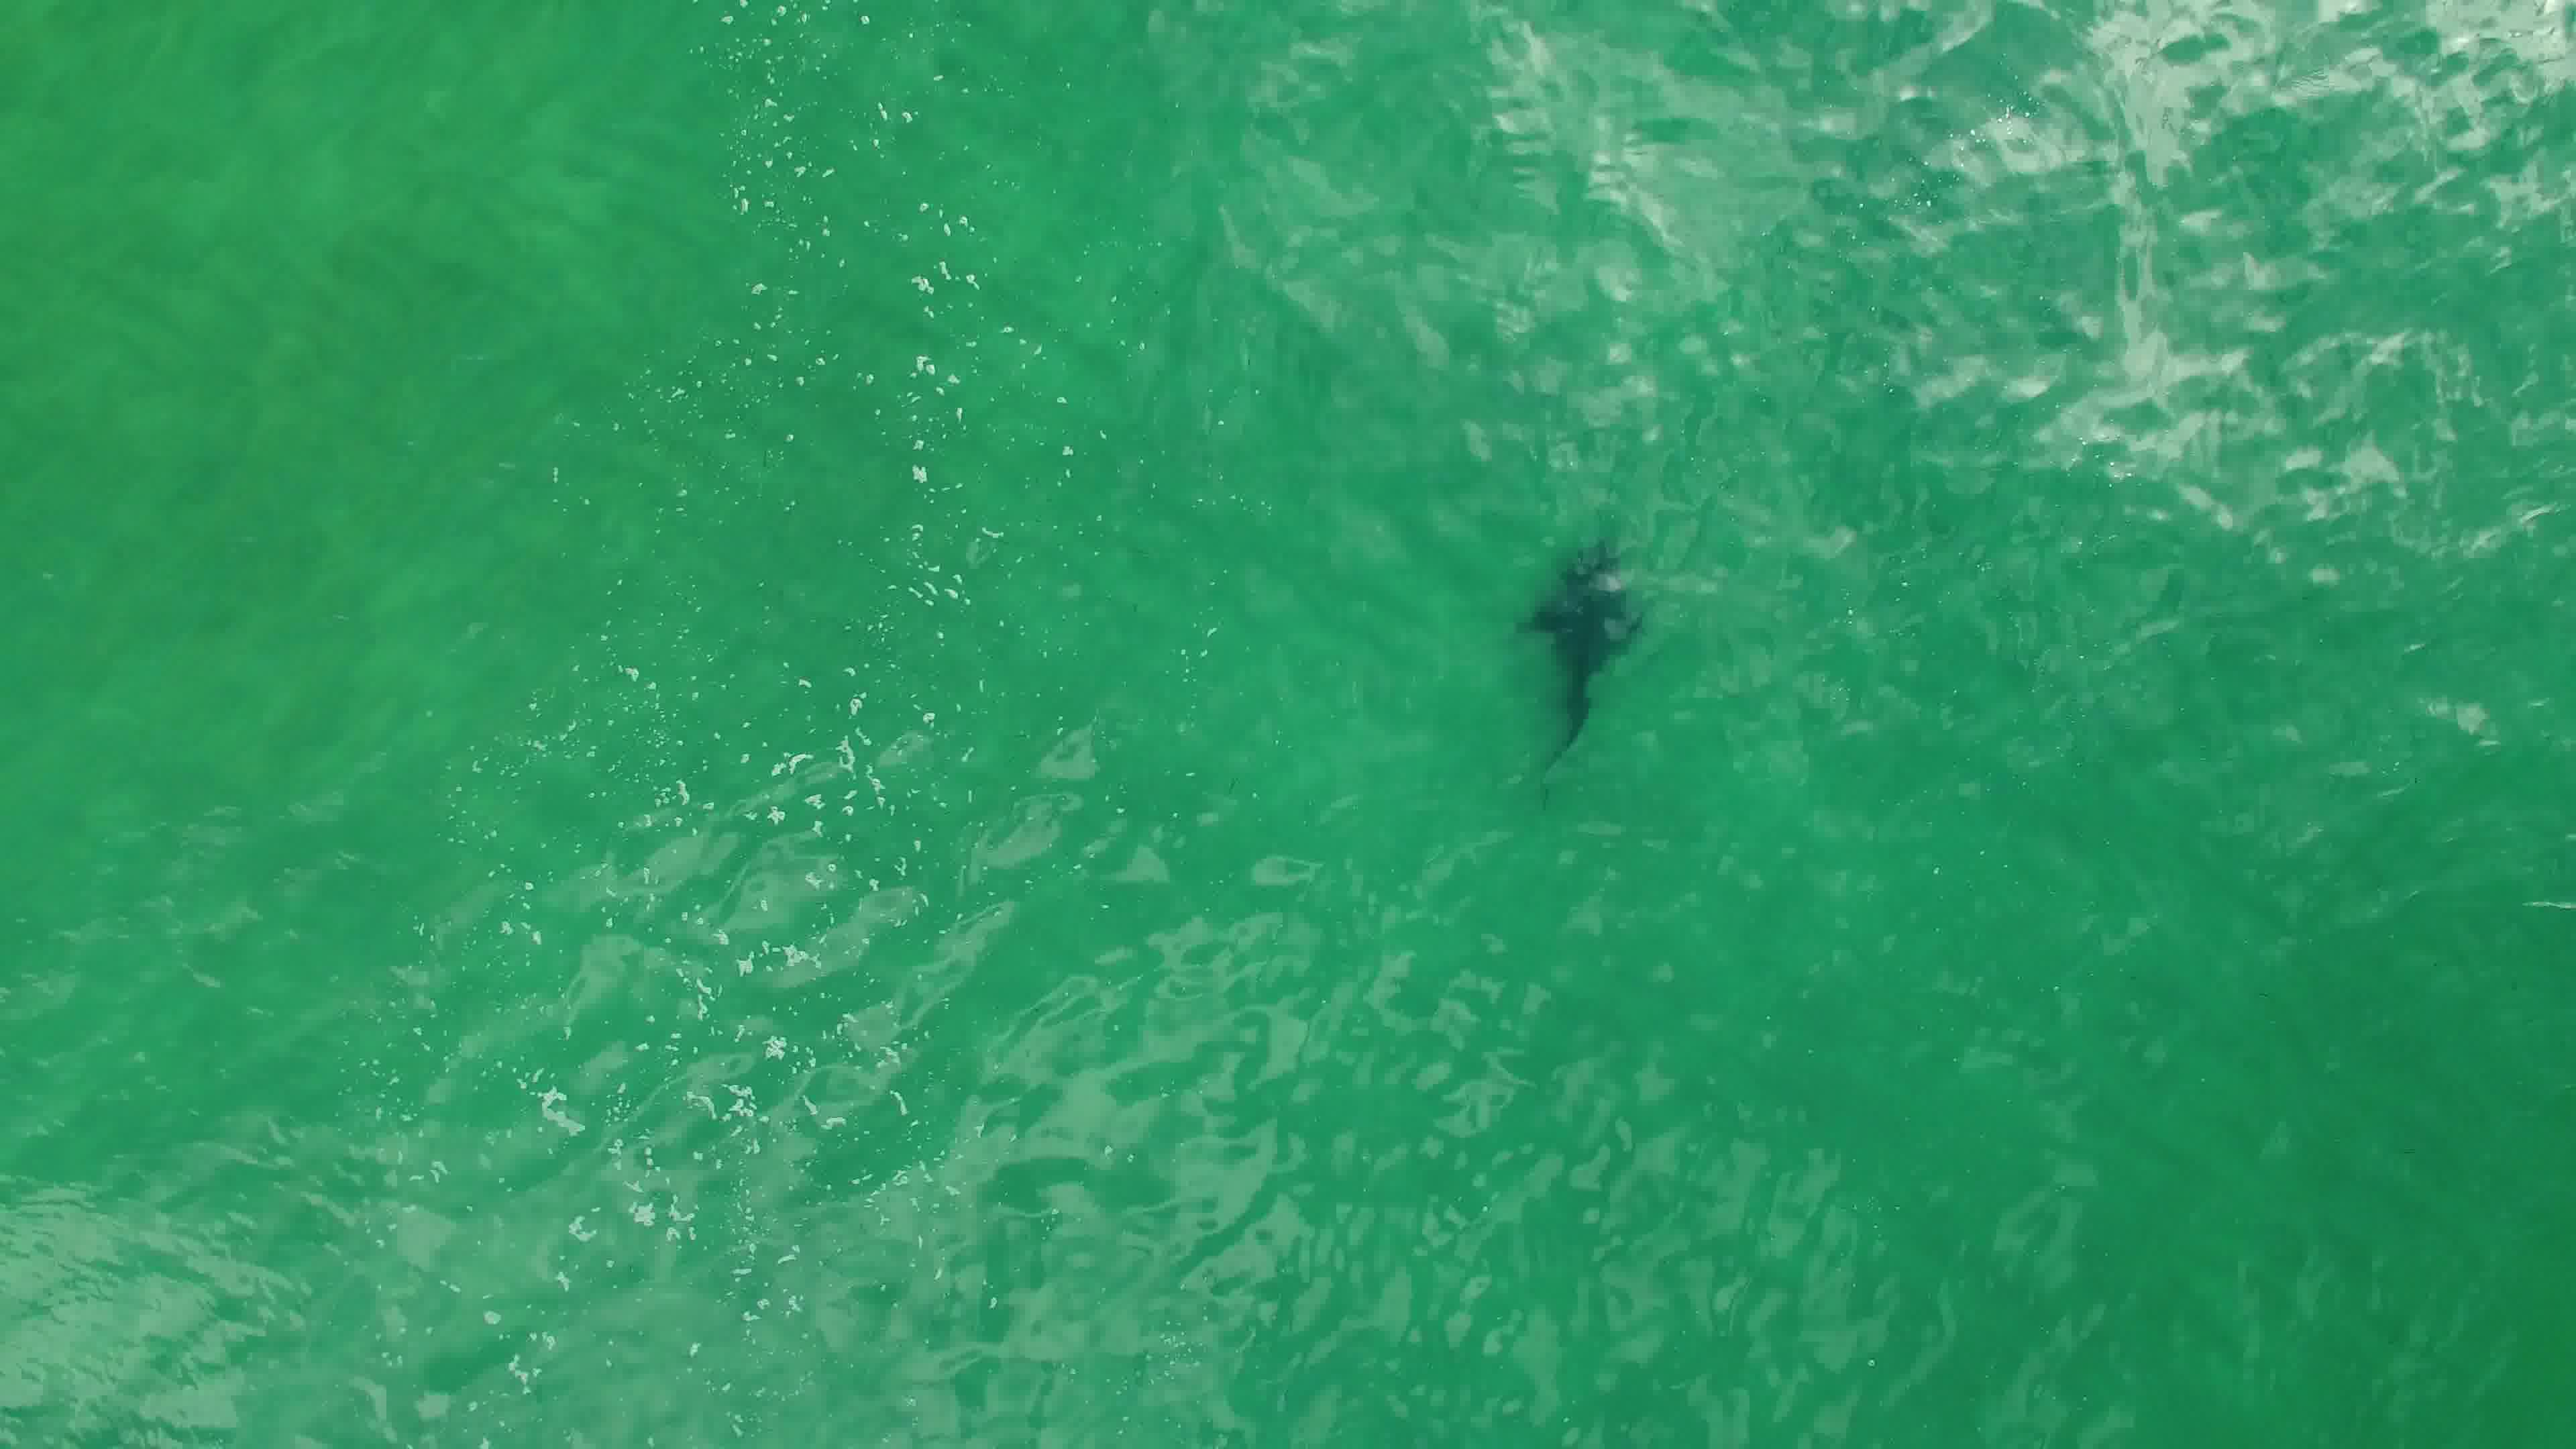shark: (1507, 531, 1654, 805)
